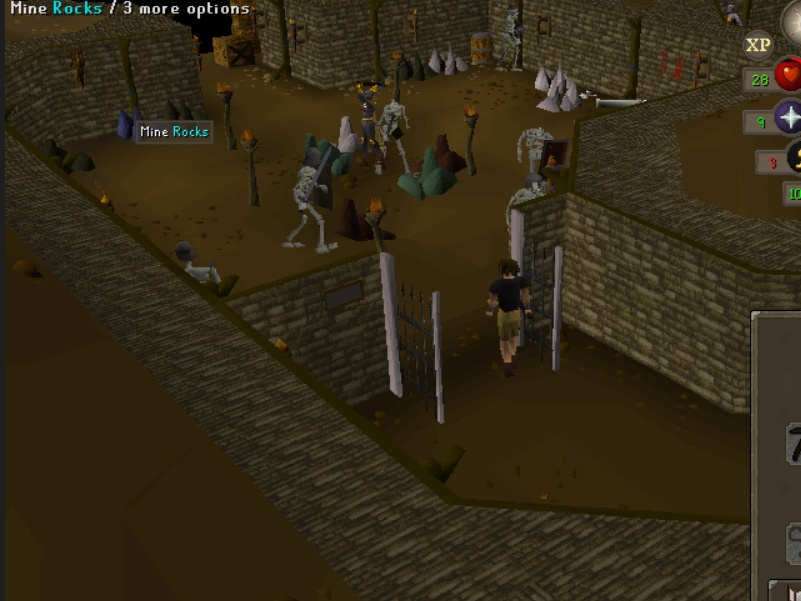adamant: (395, 145, 461, 204), (297, 130, 355, 176)
coal: (31, 136, 97, 178), (391, 49, 433, 86), (163, 94, 205, 131)
iron: (336, 195, 402, 244), (433, 125, 471, 169)
mithril: (112, 106, 160, 148)
silver: (533, 60, 583, 111), (337, 113, 367, 155)
tin: (428, 43, 472, 80)
